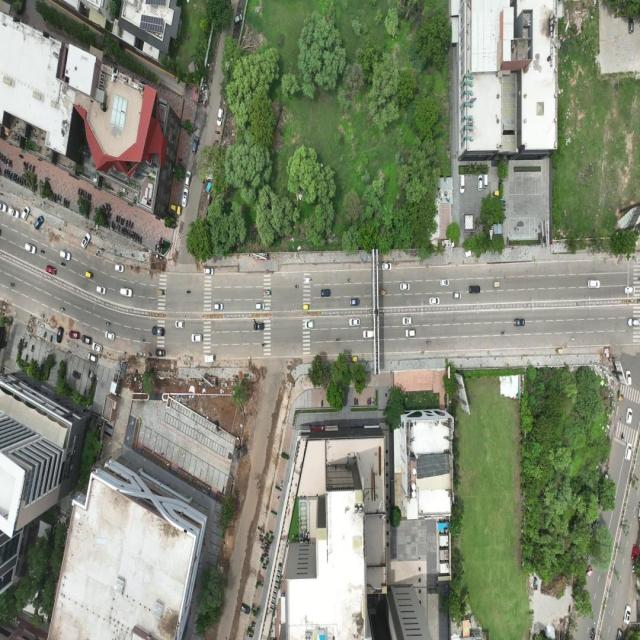3W: (84, 264, 97, 290), (259, 286, 279, 302), (154, 283, 168, 302), (554, 340, 564, 361), (493, 278, 502, 292)
Cars: (6, 202, 27, 233), (619, 598, 635, 626), (57, 242, 73, 268), (44, 255, 57, 285), (20, 238, 39, 258), (628, 538, 640, 568), (96, 282, 111, 305), (587, 277, 605, 295), (622, 281, 640, 298), (118, 284, 134, 303), (112, 259, 128, 278), (629, 311, 639, 340), (54, 324, 66, 348), (213, 104, 224, 130), (81, 226, 91, 254), (172, 314, 186, 334), (156, 346, 170, 366), (180, 189, 192, 212), (251, 319, 270, 333), (204, 262, 217, 282), (620, 365, 633, 385), (150, 322, 166, 338), (614, 624, 630, 640), (34, 208, 45, 231), (624, 403, 634, 428), (456, 175, 469, 194), (191, 136, 204, 154), (627, 438, 635, 467), (201, 352, 222, 363), (229, 9, 244, 24), (82, 330, 93, 350), (92, 338, 104, 356), (21, 204, 33, 222), (513, 314, 528, 328), (190, 330, 203, 346), (68, 324, 80, 341), (239, 600, 250, 618), (452, 290, 466, 304), (348, 317, 364, 329), (426, 296, 442, 308), (468, 281, 480, 297), (86, 352, 98, 367), (103, 328, 115, 343), (437, 276, 452, 288), (183, 173, 196, 186), (398, 280, 412, 292), (380, 261, 394, 273), (0, 195, 9, 213), (319, 288, 335, 298), (303, 318, 314, 332), (405, 329, 420, 339), (348, 296, 360, 308), (211, 302, 226, 311), (361, 329, 373, 339), (402, 318, 416, 326), (255, 302, 264, 310)
M2W: (422, 334, 443, 351), (291, 279, 305, 297), (260, 334, 272, 351), (346, 270, 355, 288), (185, 286, 194, 302), (137, 338, 152, 347), (8, 275, 15, 293), (306, 271, 315, 284), (104, 321, 118, 329), (58, 302, 68, 313), (336, 331, 342, 346), (18, 152, 26, 163), (499, 327, 506, 339), (22, 176, 27, 189), (108, 201, 112, 217), (58, 195, 63, 207), (89, 190, 94, 202), (256, 521, 262, 531), (10, 157, 14, 170), (265, 546, 271, 554), (67, 198, 71, 209), (77, 186, 81, 197), (258, 536, 264, 543), (130, 232, 135, 240), (32, 164, 36, 174), (18, 176, 21, 186), (123, 215, 126, 225), (135, 234, 139, 241), (132, 220, 134, 232), (14, 170, 16, 181), (139, 234, 142, 241), (118, 226, 121, 233), (116, 214, 118, 222)
